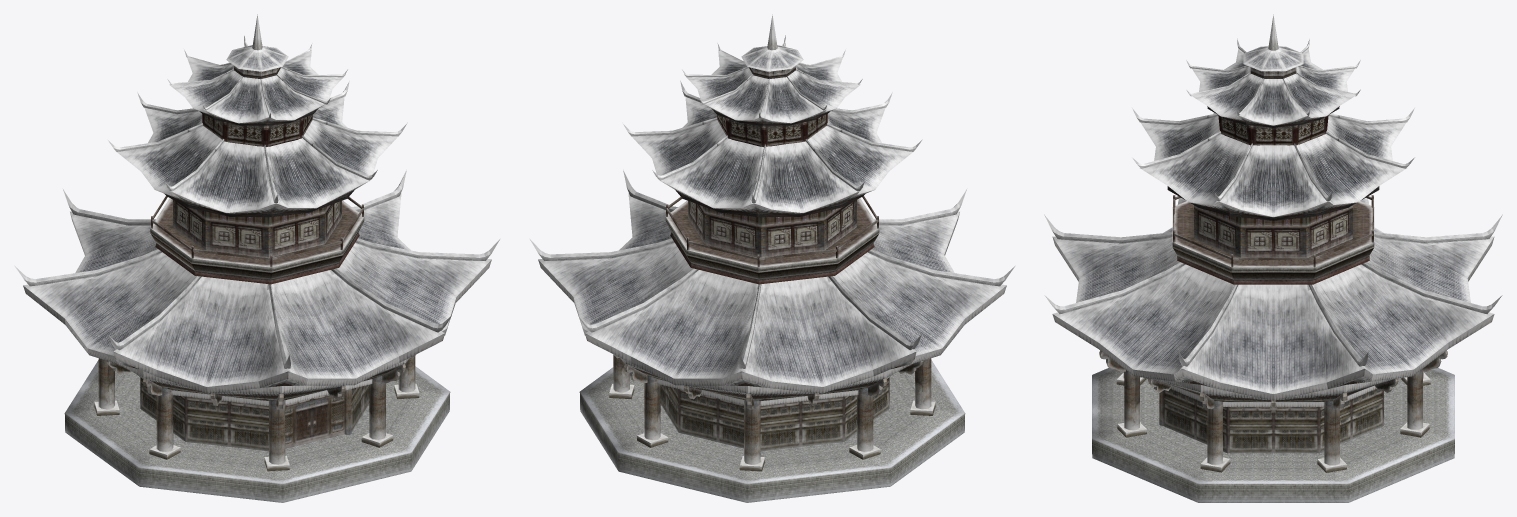
Rendered from snow_4fbuilding.glb.
The picture shows the model from 3 angles, left to right: view 1: azimuth 30°, elevation 25°; view 2: azimuth 150°, elevation 25°; view 3: azimuth 270°, elevation 25°; orthographic projection.
Visible parts, largest first — view 1: snow_4Fbuilding_01, snow_4Fbuilding_05, snow_4Fbuilding_02, snow_4Fbuilding_04, snow_4Fbuilding_03; view 2: snow_4Fbuilding_01, snow_4Fbuilding_05, snow_4Fbuilding_02, snow_4Fbuilding_04, snow_4Fbuilding_03; view 3: snow_4Fbuilding_01, snow_4Fbuilding_05, snow_4Fbuilding_02, snow_4Fbuilding_04, snow_4Fbuilding_03.
Part boxes in pixels (x1,y1,x2,y2): snow_4Fbuilding_01: [23, 193, 491, 409]; snow_4Fbuilding_05: [15, 14, 499, 368]; snow_4Fbuilding_02: [64, 360, 450, 502]; snow_4Fbuilding_04: [150, 66, 364, 284]; snow_4Fbuilding_03: [94, 356, 419, 471]; snow_4Fbuilding_01: [538, 193, 1006, 409]; snow_4Fbuilding_05: [530, 14, 1014, 368]; snow_4Fbuilding_02: [579, 360, 965, 502]; snow_4Fbuilding_04: [665, 66, 879, 284]; snow_4Fbuilding_03: [609, 354, 935, 471]; snow_4Fbuilding_01: [1052, 198, 1494, 412]; snow_4Fbuilding_05: [1044, 14, 1502, 366]; snow_4Fbuilding_02: [1092, 368, 1454, 502]; snow_4Fbuilding_04: [1172, 67, 1374, 284]; snow_4Fbuilding_03: [1116, 370, 1430, 472].
Bounding box in the file's own units: 24.12 × 23.91 × 24.12.
Materials: 5 (5 with a texture image).
